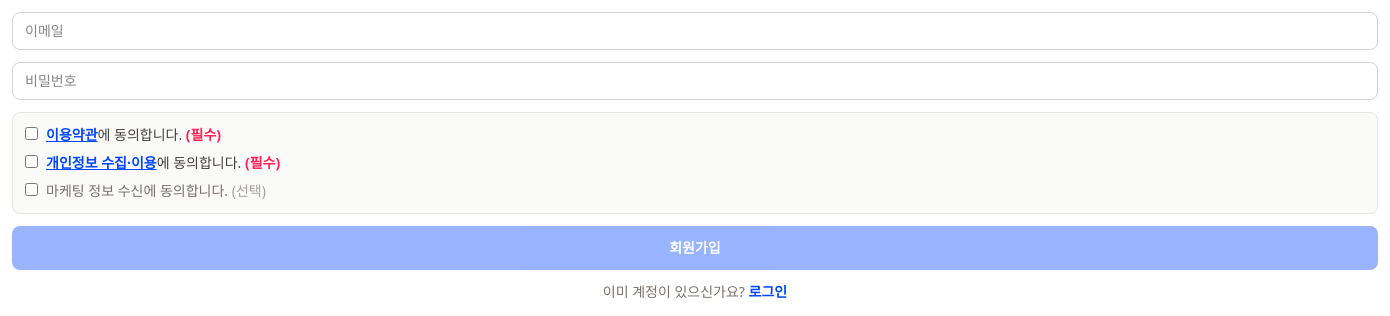
Test: AuthForm — SIGNUP mode › 두 필수 약관 동의 시 버튼이 활성화된다
The image size is (1390, 316).
Click the checkbox named "이용약관 동의". click: (32, 134)
box: [25,127,38,140]
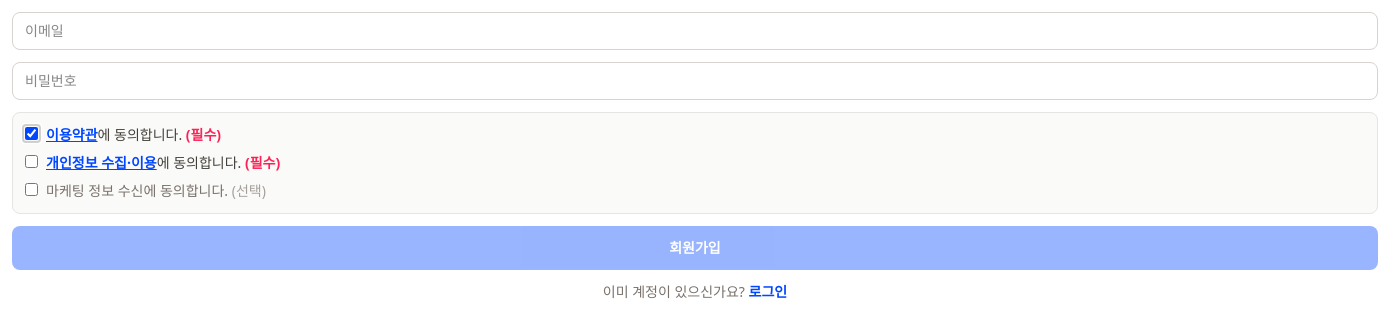
Click the checkbox named "개인정보 수집·이용 동의". click: (32, 162)
box: [25,155,38,168]
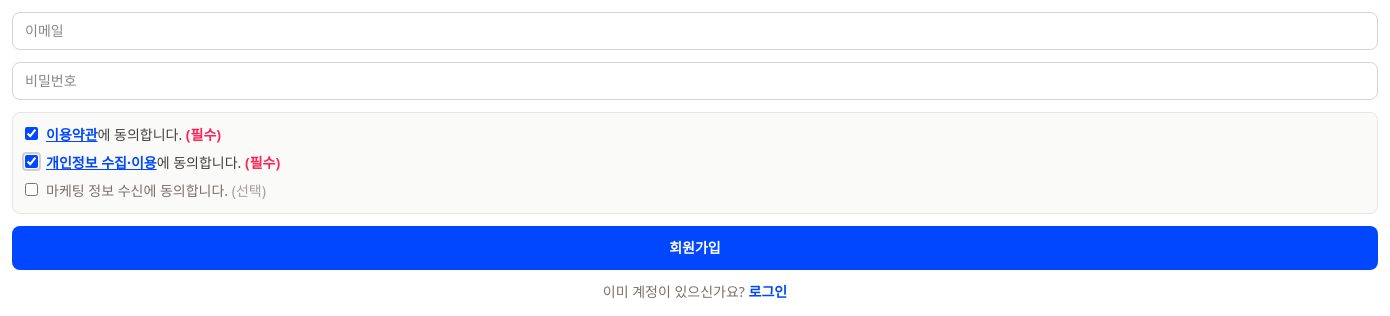
Now the button "회원가입" is enabled, box [12,226,1378,270]
